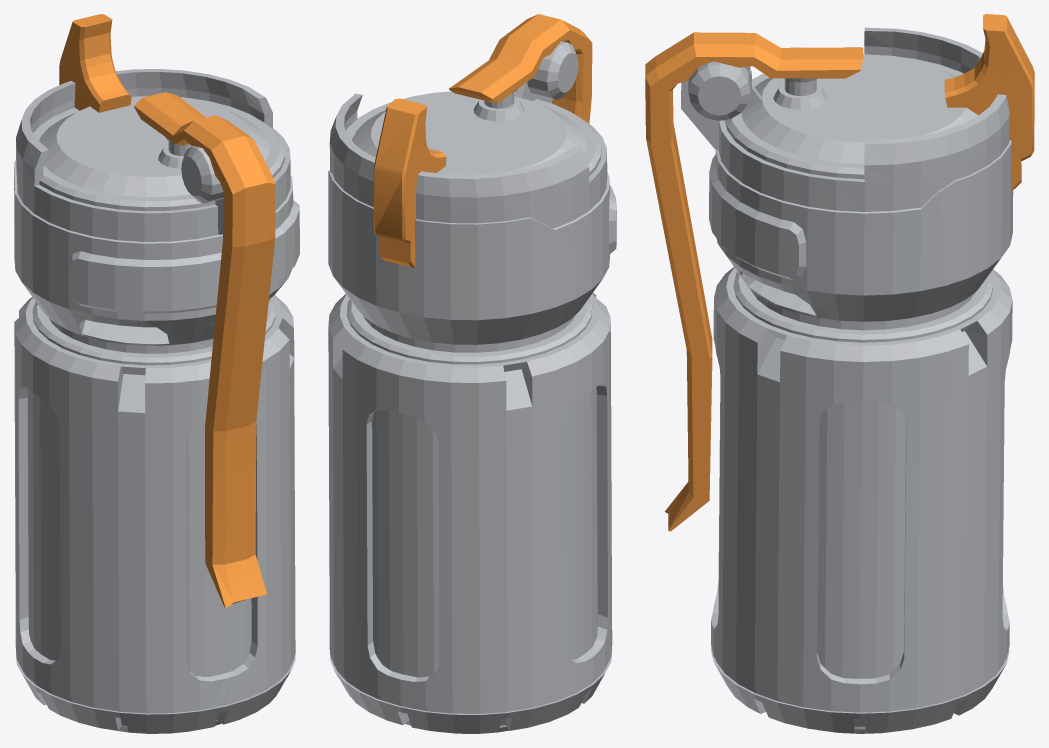
File: flash.glb
3 renders of one model, left to right at view 1: azimuth 30°, elevation 25°; view 2: azimuth 150°, elevation 25°; view 3: azimuth 270°, elevation 25°, orthographic. The views are drawn at different scales.
Parts seen in each view (by area): view 1: Body, Lever; view 2: Body, Lever; view 3: Body, Lever.
Boxes of the visible parts, <box> form: Body: <box>14,69,299,733</box>; Lever: <box>59,14,275,608</box>; Body: <box>328,41,616,733</box>; Lever: <box>373,14,592,267</box>; Body: <box>681,27,1013,733</box>; Lever: <box>645,14,1034,531</box>.
Size of the model in its own units: 0.0602 by 0.1482 by 0.0785.
